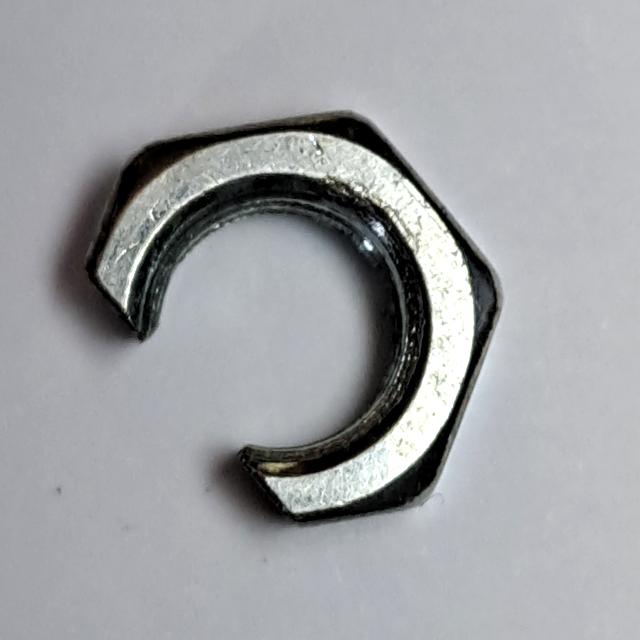Fracture: (76, 98, 516, 542)
